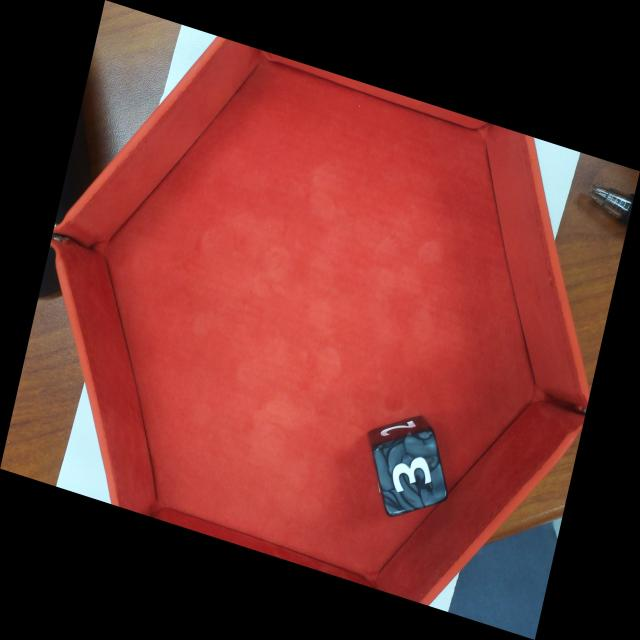dice: (375, 427, 447, 516)
